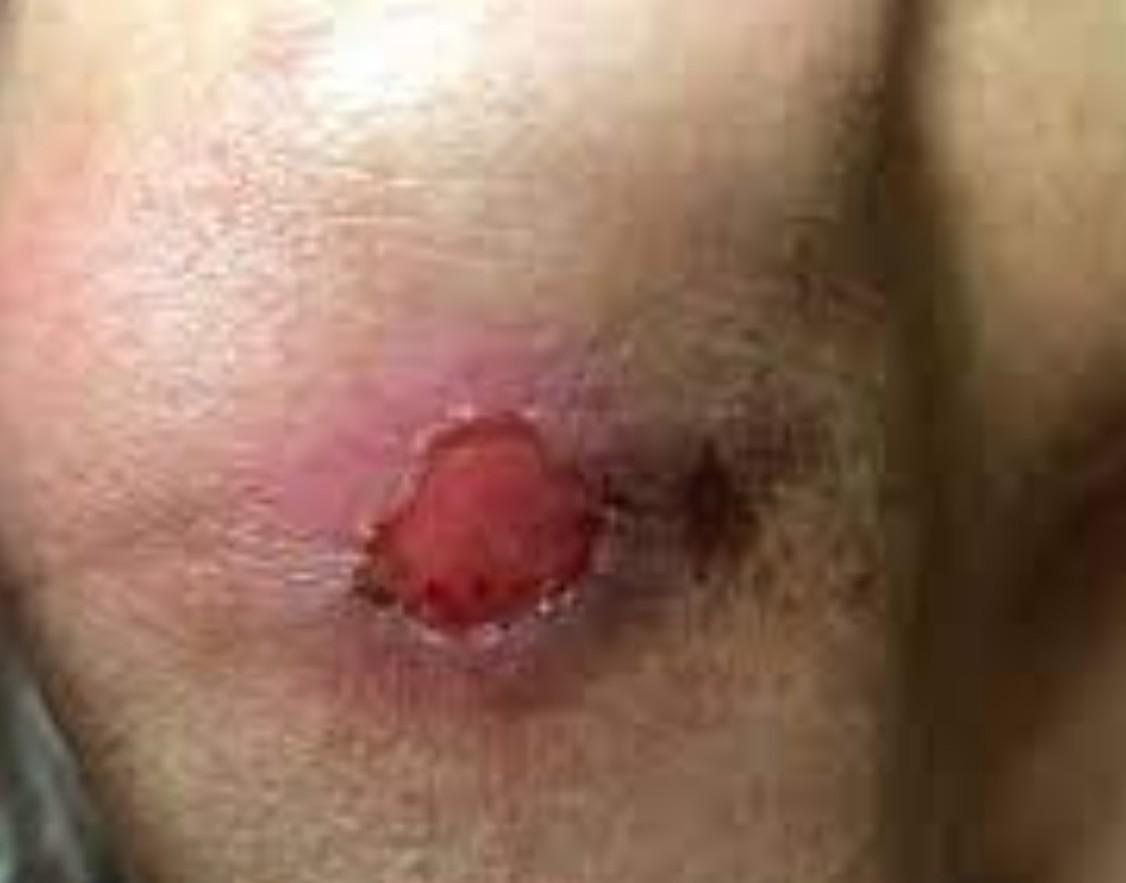Stage2: (303, 367, 635, 727)
